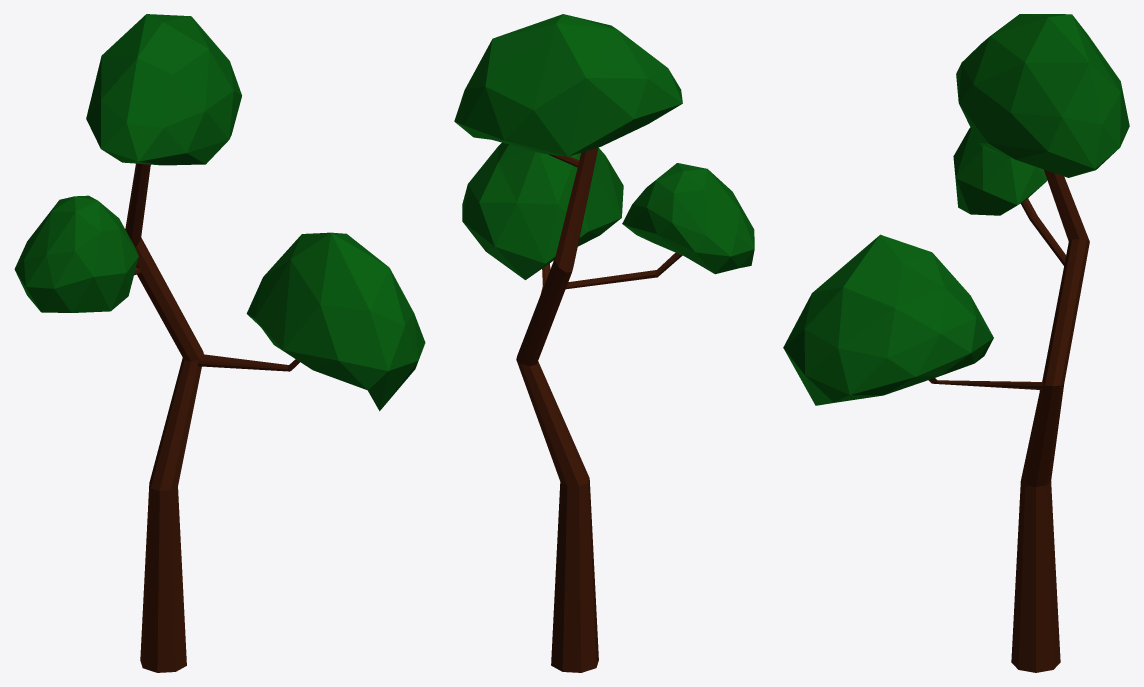
File: darktree.obj
The picture shows the model from 3 angles, left to right: view 1: azimuth 30°, elevation 25°; view 2: azimuth 150°, elevation 25°; view 3: azimuth 270°, elevation 25°; orthographic projection. The views are drawn at different scales.
Visible parts, largest first — view 1: Icosphere, Icosphere.002, Cylinder, Icosphere.001; view 2: Icosphere.002, Cylinder, Icosphere, Icosphere.001; view 3: Icosphere, Icosphere.002, Cylinder, Icosphere.001.
Part boxes in pixels (x1,y1,x2,y2): Icosphere: (246, 232, 425, 411); Icosphere.002: (86, 14, 241, 165); Cylinder: (125, 163, 299, 672); Icosphere.001: (14, 195, 138, 312); Icosphere.002: (454, 14, 682, 156); Cylinder: (516, 147, 682, 672); Icosphere: (462, 142, 623, 279); Icosphere.001: (622, 163, 754, 274); Icosphere: (783, 234, 993, 405); Icosphere.002: (956, 14, 1129, 177); Cylinder: (928, 169, 1089, 672); Icosphere.001: (953, 127, 1047, 215).
Size of the model in its own units: 5.73 by 10.64 by 5.15.
